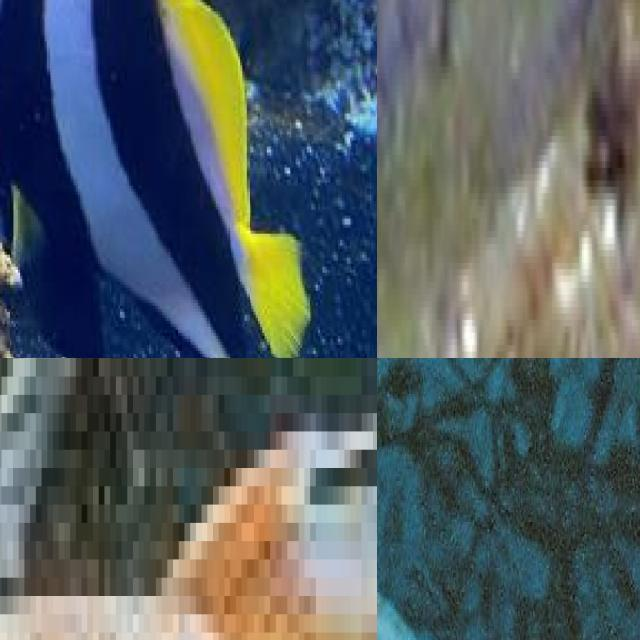fish: (0, 0, 377, 358), (377, 0, 640, 358), (377, 358, 640, 640), (0, 358, 87, 541)
